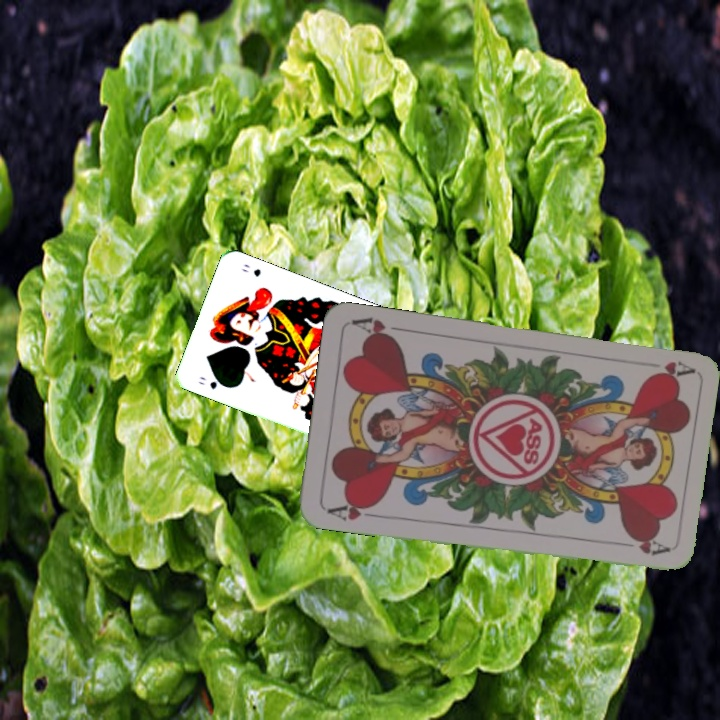GO: (195, 372, 230, 392)
HA: (323, 497, 381, 524), (647, 356, 694, 382)
